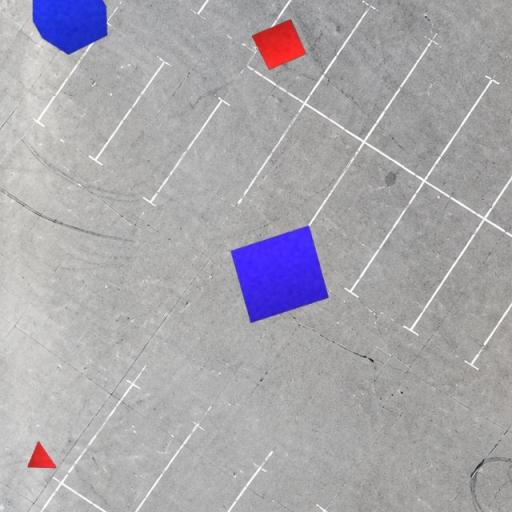BLUE_SQUARE: (230, 225, 330, 324)
RED_SQUARE: (250, 18, 306, 70)
